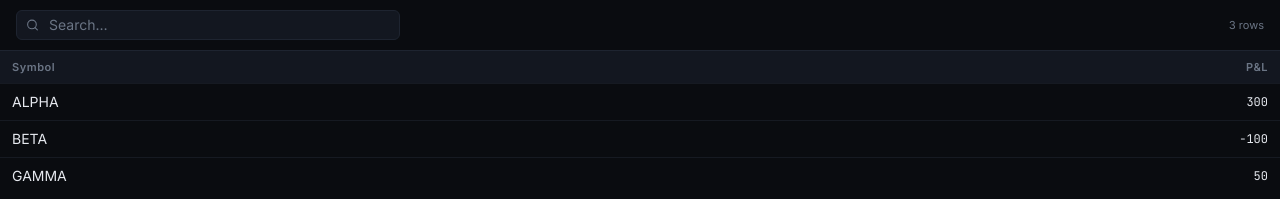
DataTable › filters on search
Type "BET" into the field named "Search table" at (208, 25), box [16,10,400,40]
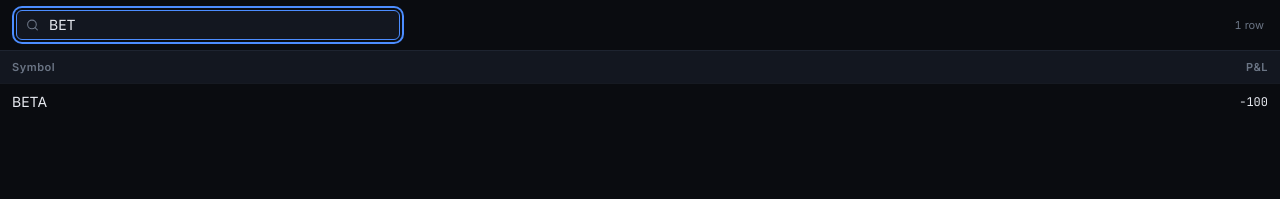
Check: the text "BETA" is shown, box [0,84,717,120]
Check: the text "ALPHA" is gone
